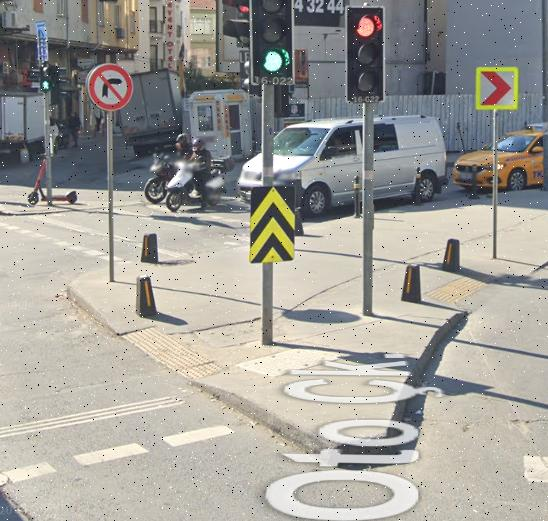greenlight: (250, 1, 295, 76)
redlight: (347, 9, 381, 92)
rightturnsareforbidden: (87, 62, 134, 109)
